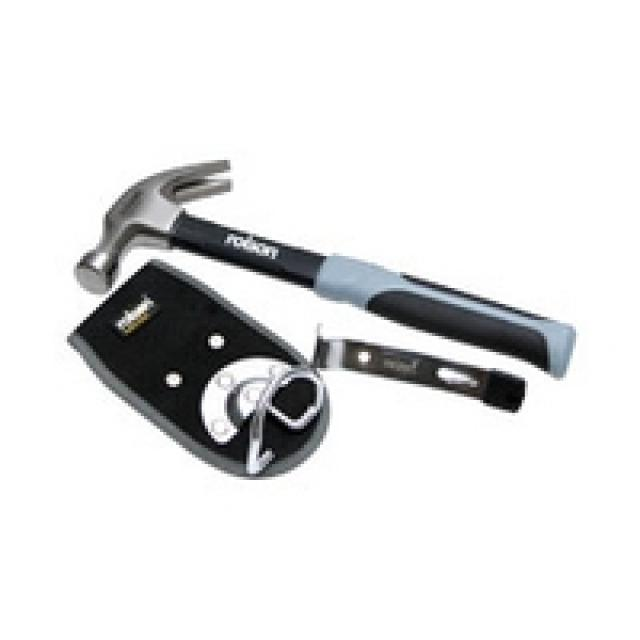hammer: (59, 138, 630, 376)
